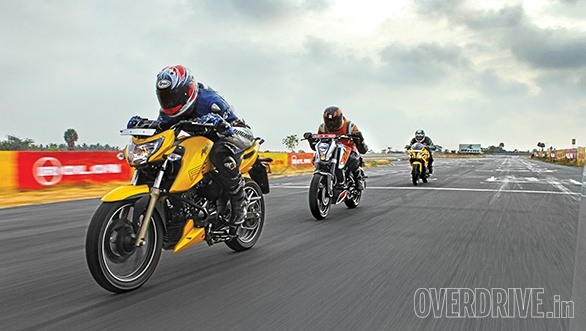helmet: (154, 57, 197, 119), (319, 106, 341, 130), (413, 129, 425, 141)
